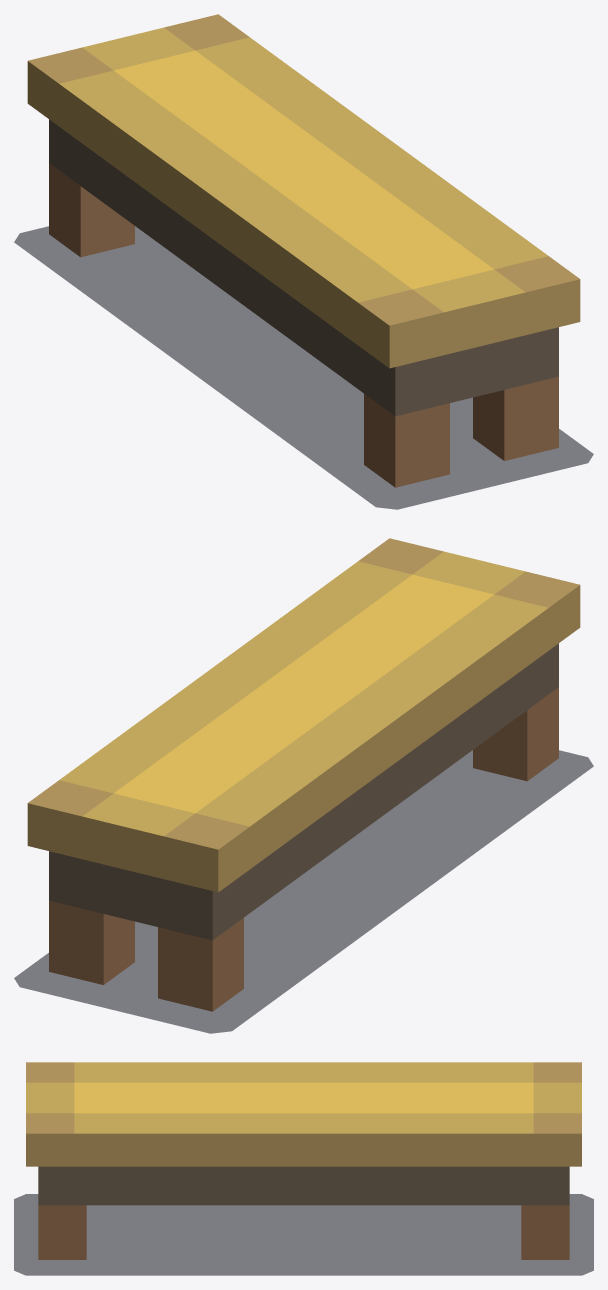
The model's file is modelo.obj.
3 views of the same model, one above another, from view 1: azimuth 30°, elevation 25°; view 2: azimuth 150°, elevation 25°; view 3: azimuth 270°, elevation 25° (orthographic). The views are drawn at different scales.
Parts seen in each view (by area): view 1: polygon1, polygon0; view 2: polygon1, polygon0; view 3: polygon1, polygon0.
Boxes of the visible parts, x1,y1,x2,y2 form: polygon1: [27, 14, 580, 487]; polygon0: [14, 226, 593, 509]; polygon1: [27, 538, 580, 1011]; polygon0: [14, 750, 593, 1033]; polygon1: [26, 1062, 581, 1259]; polygon0: [14, 1194, 593, 1275].
Bounding box in the file's own units: 16 × 12.5 × 48.
2 materials, 2 textured.
